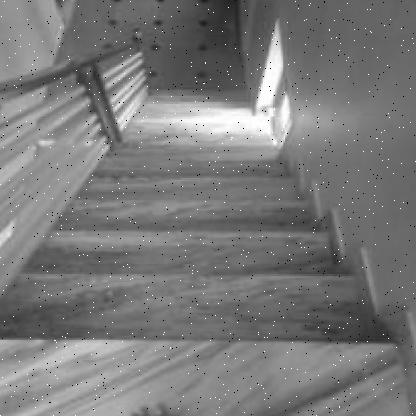stair_down: (0, 206, 328, 370)
